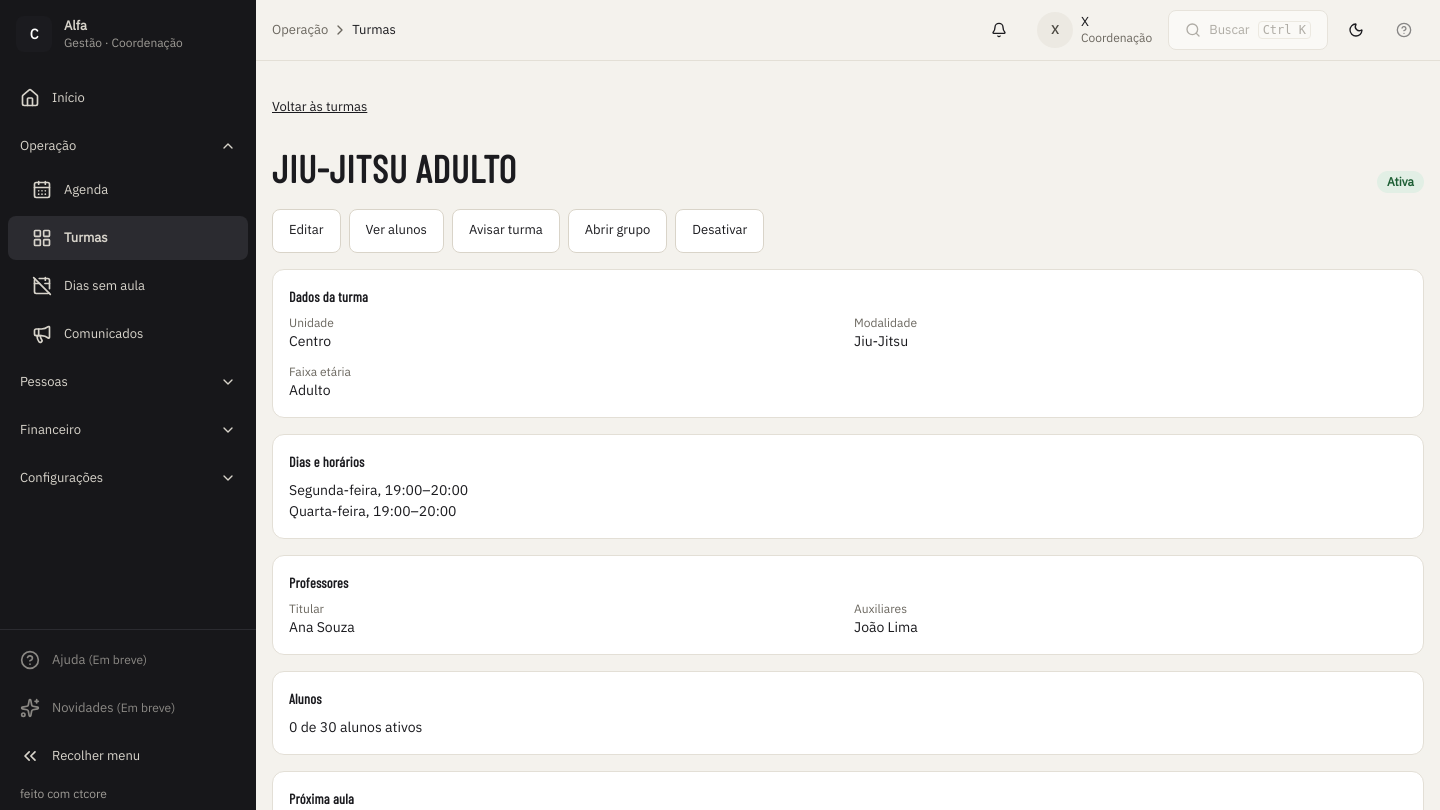
ClassPanelPage (RF-TUR-02) › CA9: se o servidor recusar com HAS_PRIMARY_STUDENTS a janela passa a mostrar a recusa; outro erro mostra aviso
The width and height of the screenshot is (1440, 810).
Click the button "Desativar" at (720, 230), box [675,208,764,252]
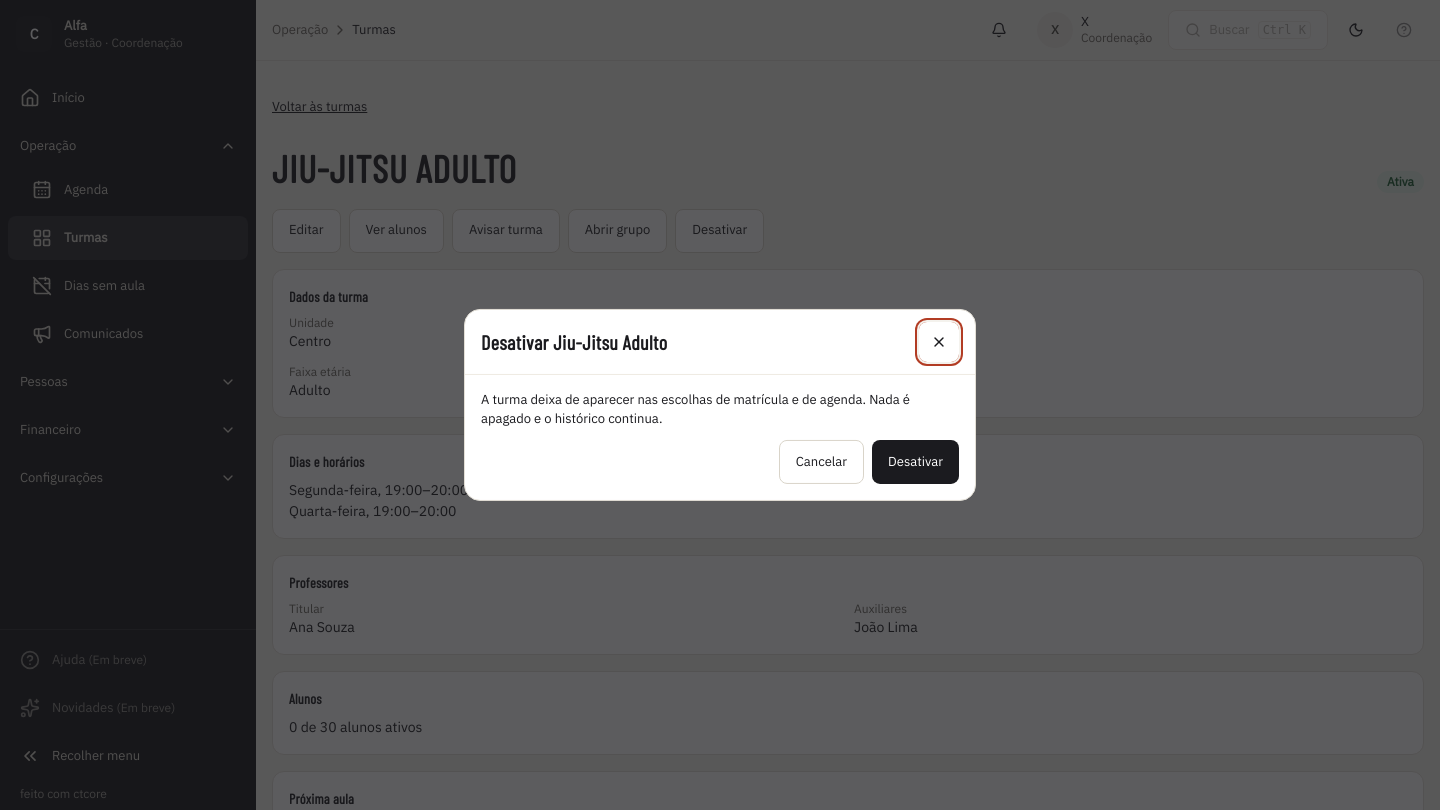
Click the button "Desativar" at (916, 462), box [872,440,959,484]
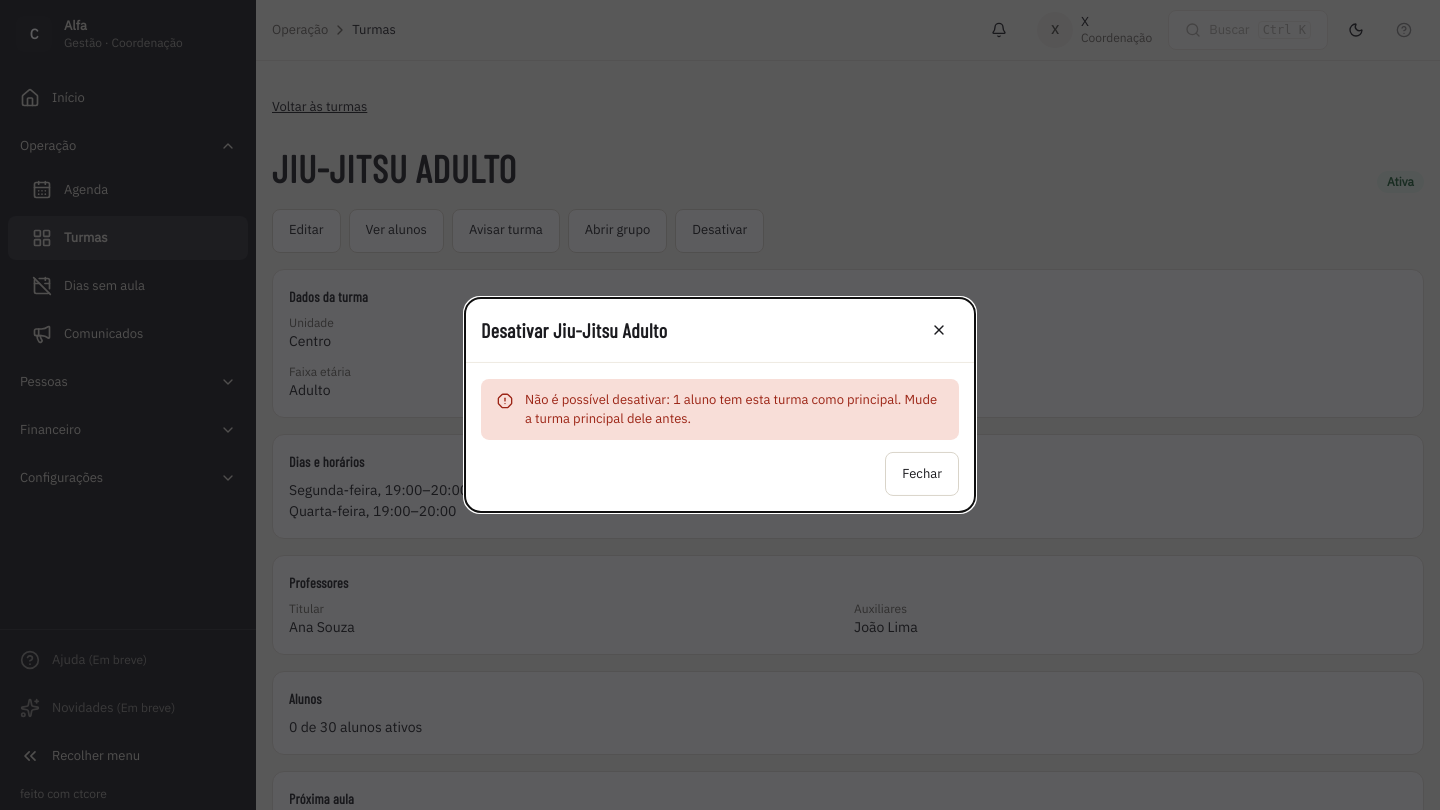
Expected: the message shows "1 aluno tem esta turma como principal", [525,391,937,426]
Click the button "Fechar" at (922, 474), box [885,452,959,496]
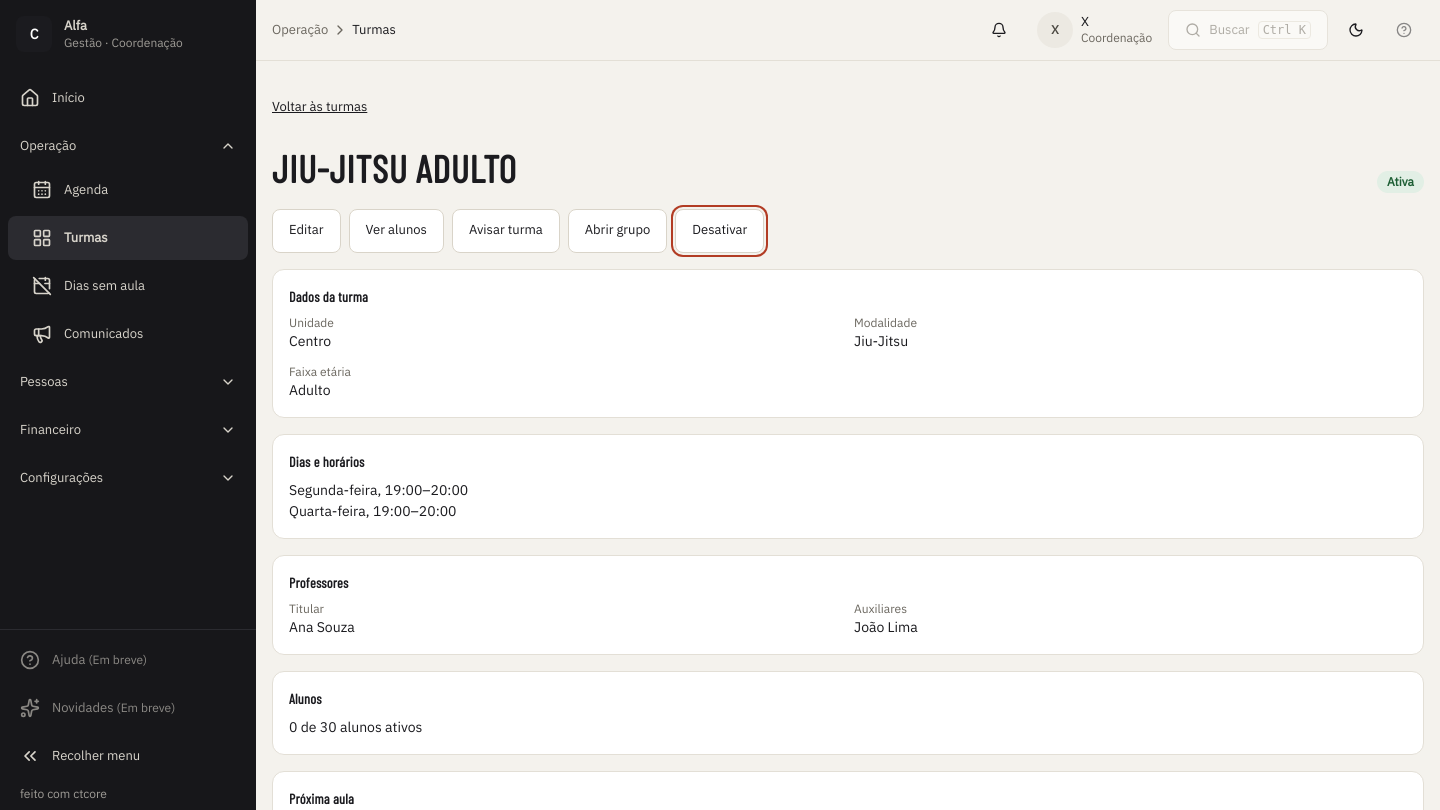
Click the button "Desativar" at (720, 230), box [675,208,764,252]
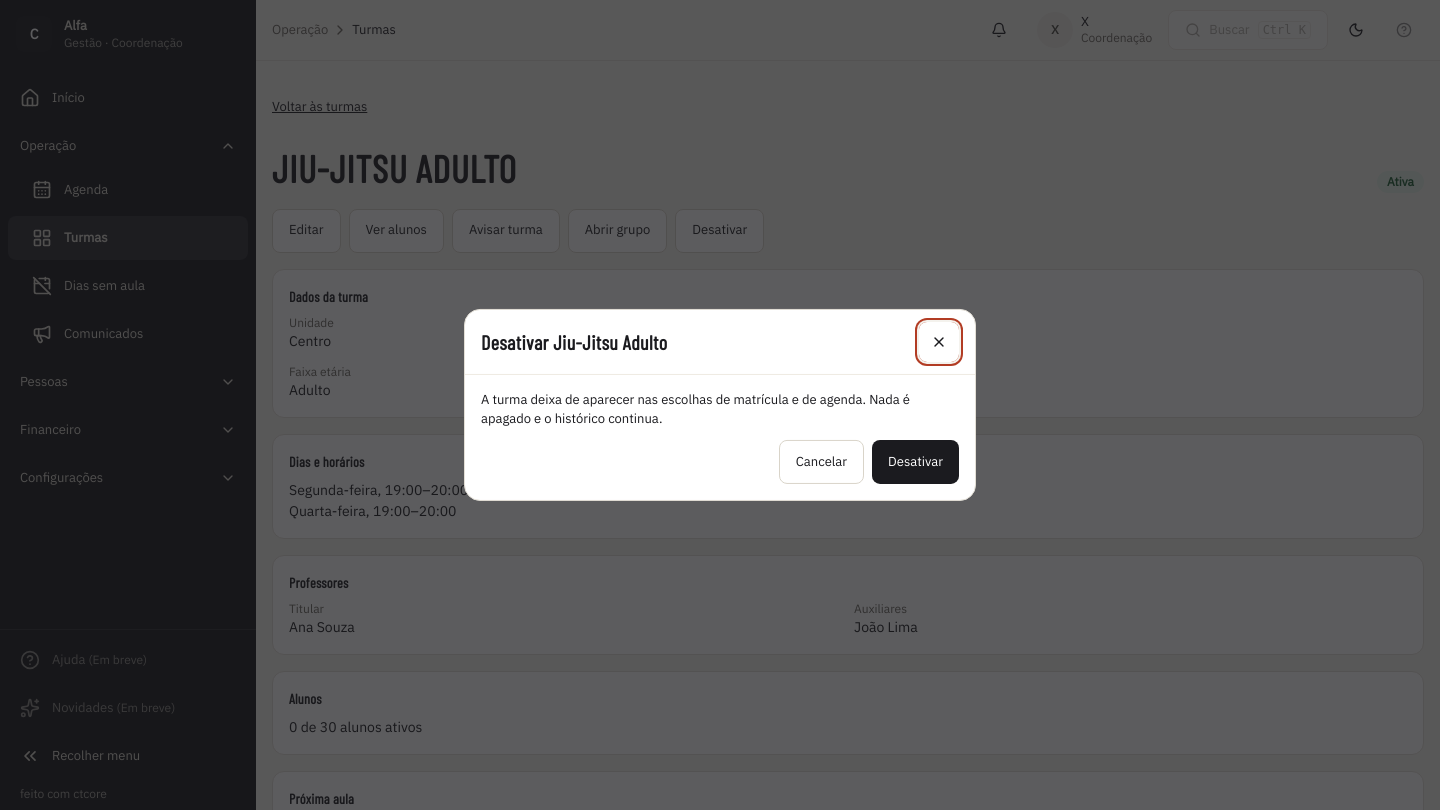
Click the button "Desativar" at (916, 462), box [872,440,959,484]
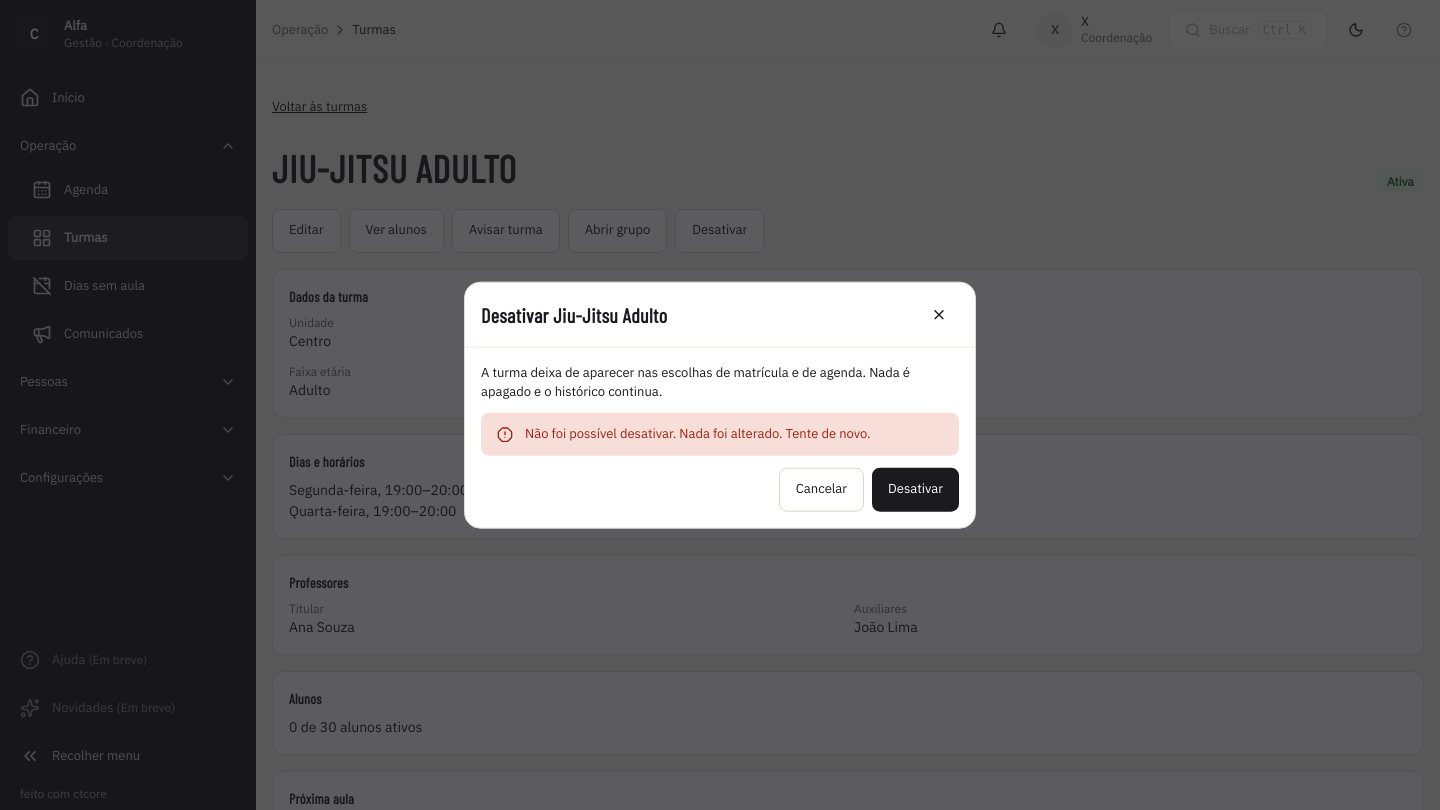
Expected: the message shows "Não foi possível desativar", [525,425,871,442]
